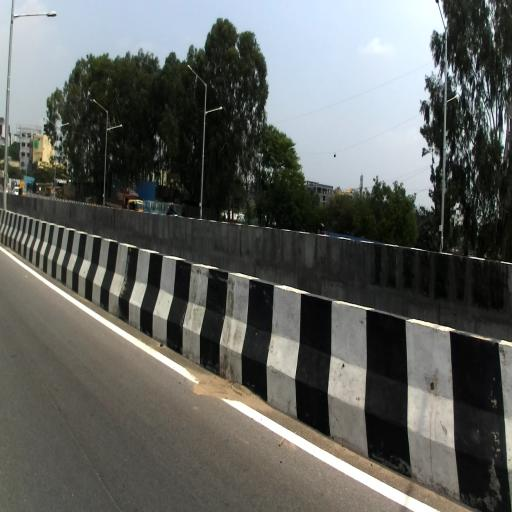street_light_0: (10, 11, 58, 24), (435, 0, 449, 40), (187, 64, 208, 89), (91, 99, 108, 117), (202, 105, 224, 118), (43, 115, 60, 130), (444, 94, 460, 108), (54, 122, 70, 134), (105, 124, 123, 132)
